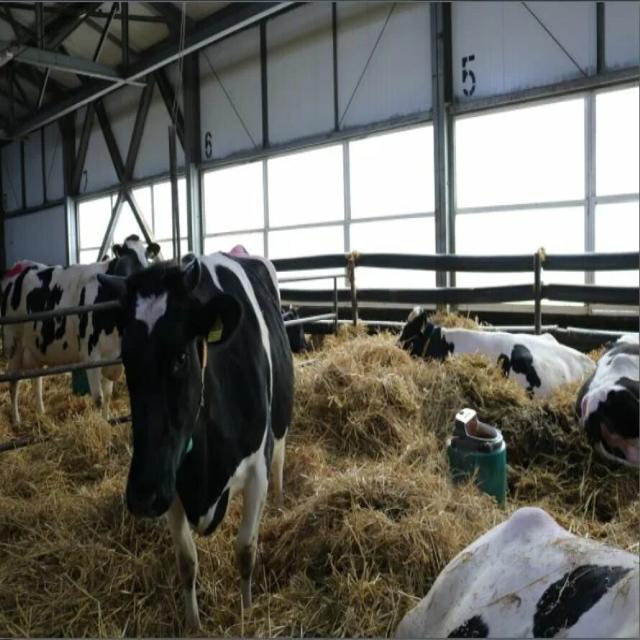cow: (94, 244, 295, 634), (394, 505, 638, 638), (0, 233, 162, 426), (396, 306, 597, 401), (574, 331, 638, 471)
